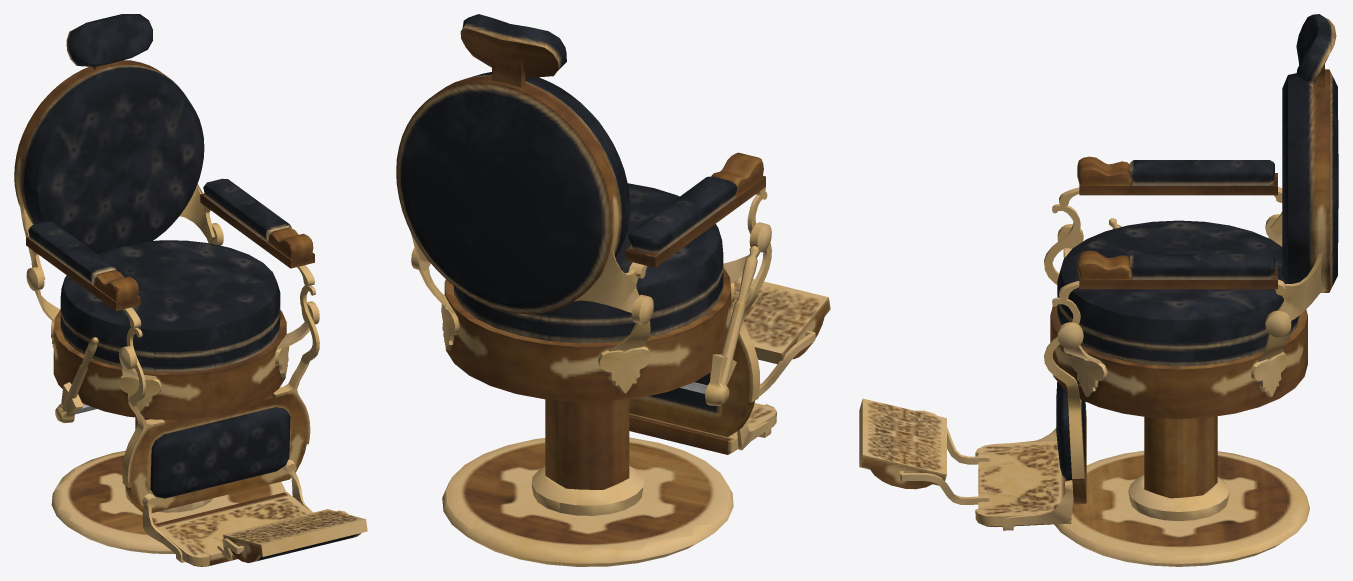
Rendered from chair_barber.glb.
The picture shows the model from 3 angles, left to right: view 1: azimuth 30°, elevation 25°; view 2: azimuth 150°, elevation 25°; view 3: azimuth 270°, elevation 25°; orthographic projection. The views are drawn at different scales.
Visible parts, largest first — view 1: mesh; view 2: mesh; view 3: mesh.
Part boxes in pixels (x1,y1,x2,y2): mesh: [14, 14, 367, 566]; mesh: [396, 14, 830, 566]; mesh: [859, 14, 1338, 566].
Size of the model in its own units: 0.7566 by 1.49 by 1.33.
Materials: 1 (1 with a texture image).
